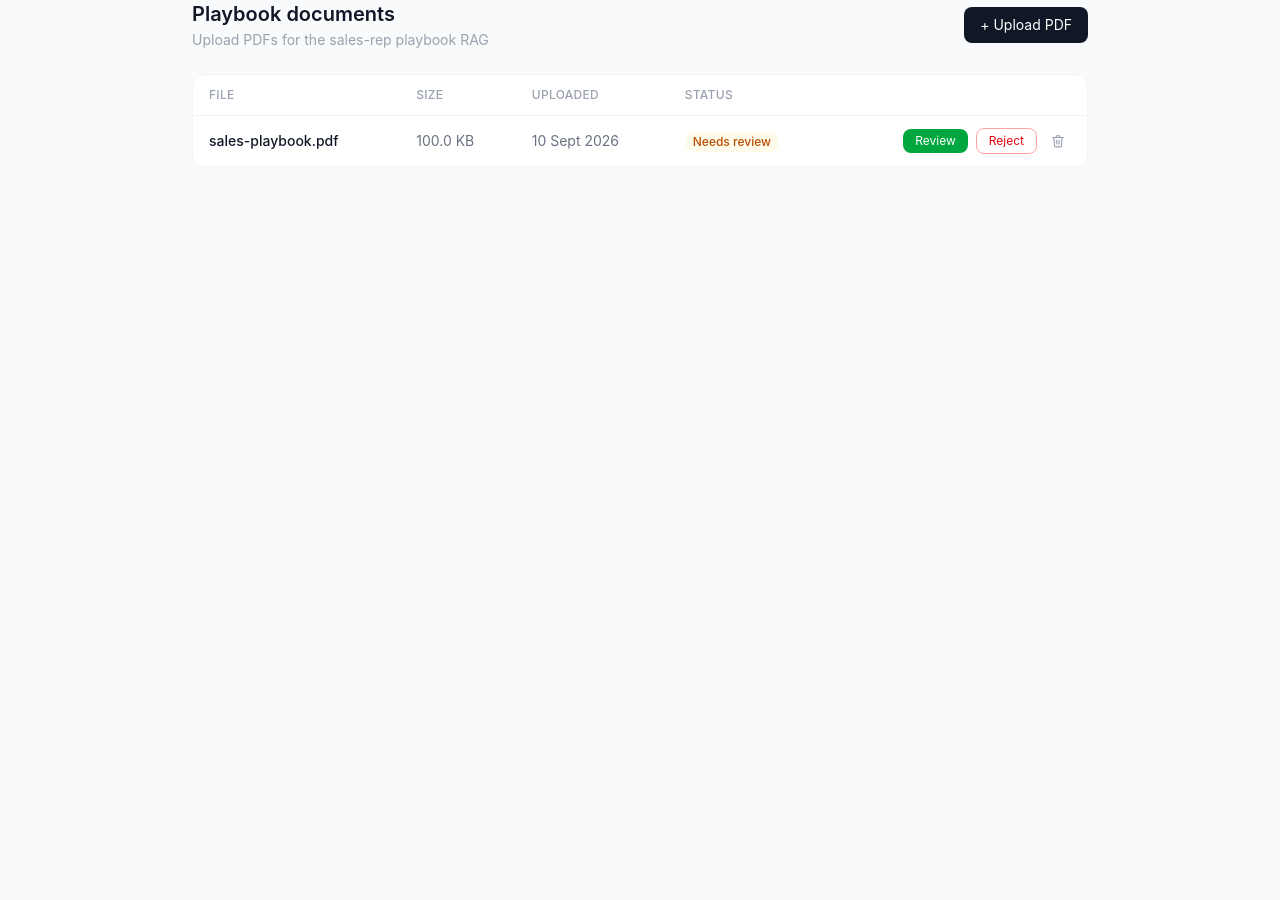
Test case: DocumentsPage › Review shows the extracted passages and approves from the dialog
Step 1. Click the button "Review" → [936, 141], box [903,129,968,153]
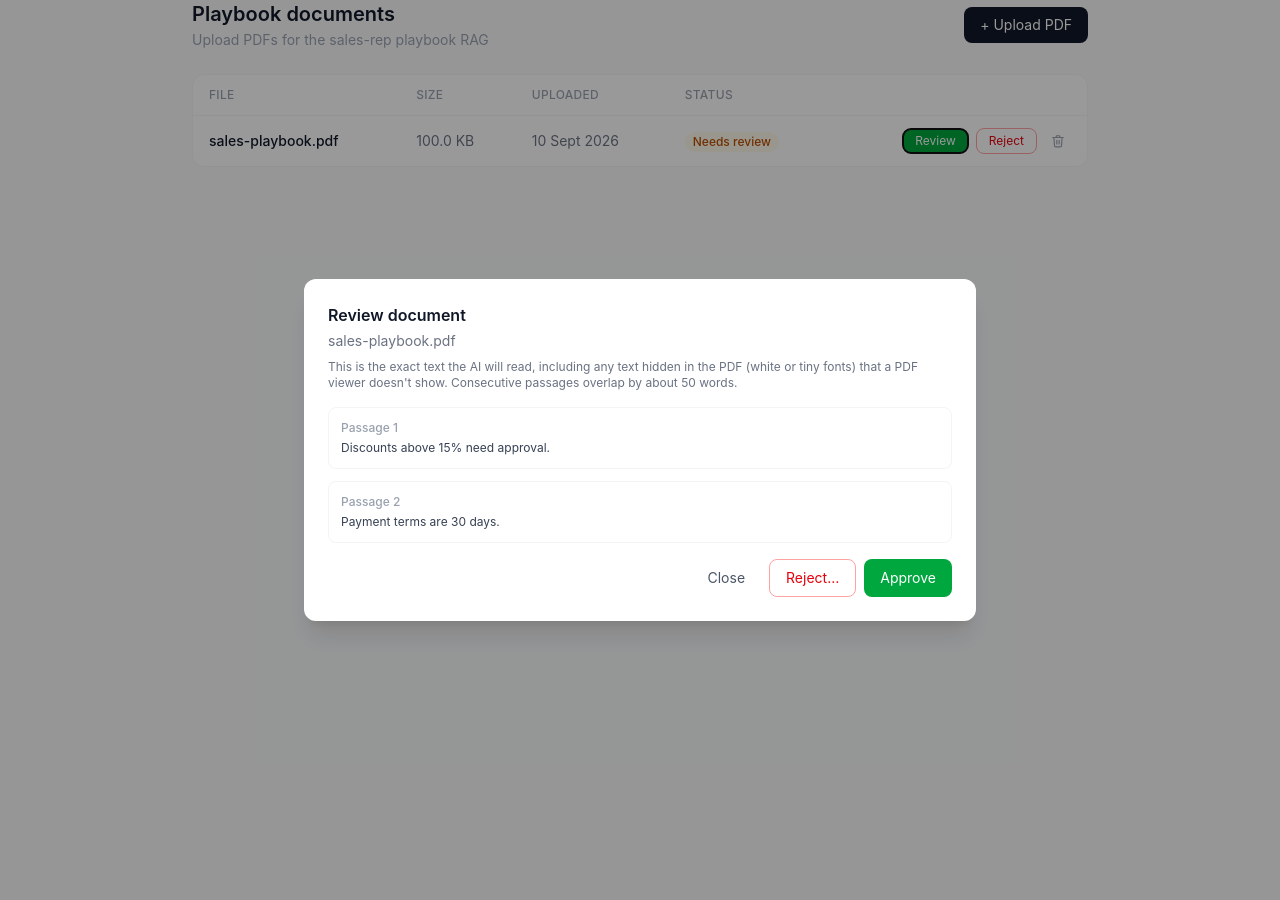
Now the text "Discounts above 15% need approval." is shown, box [341,440,550,455]
Now the element "Passage 2" shows "Payment terms are 30 days.", box [341,514,500,529]
Step 2. Click the button "Approve" → [908, 578], box [864,559,952,597]
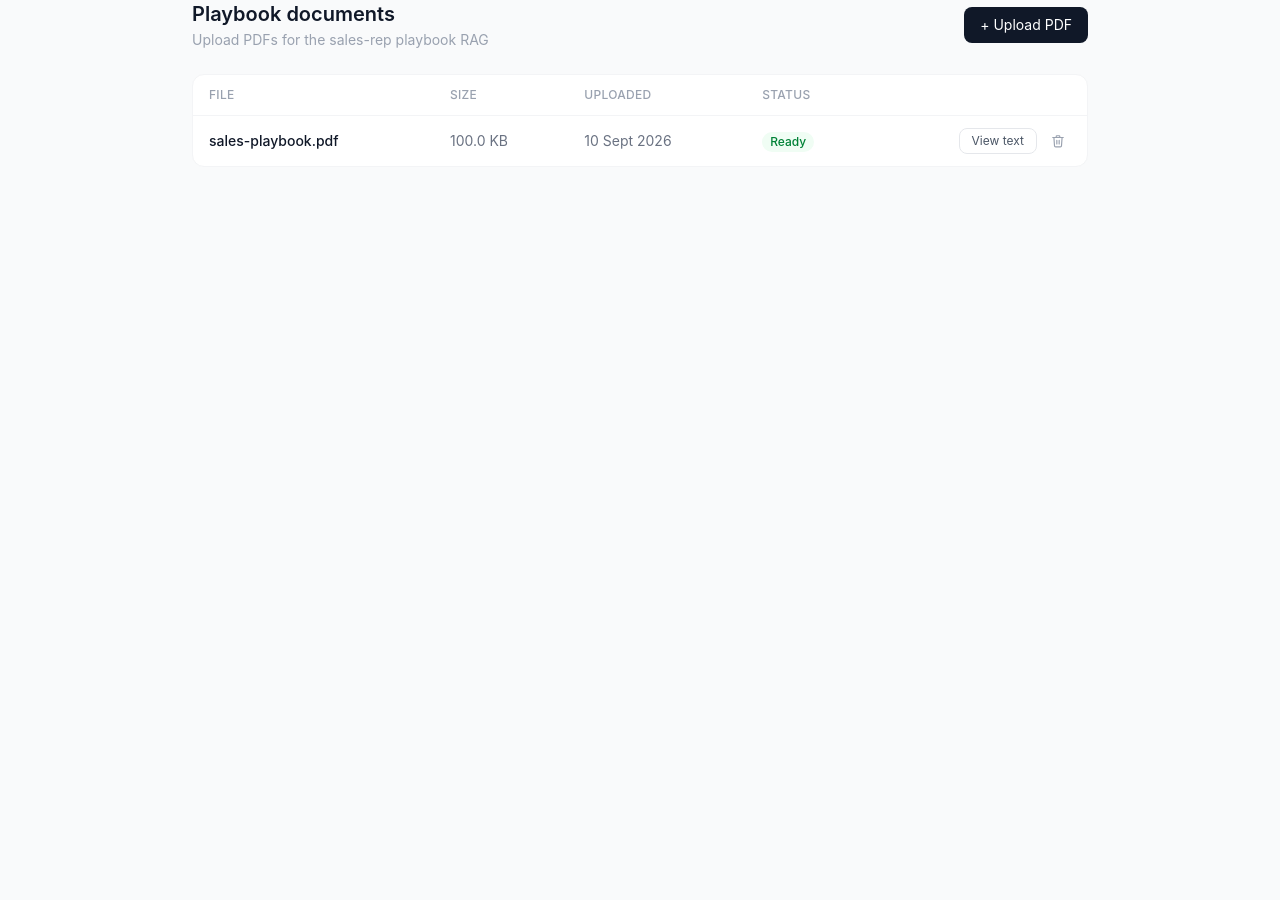
Now the text "Ready" is shown, box [762,132,814,152]
Now the dialog is gone
